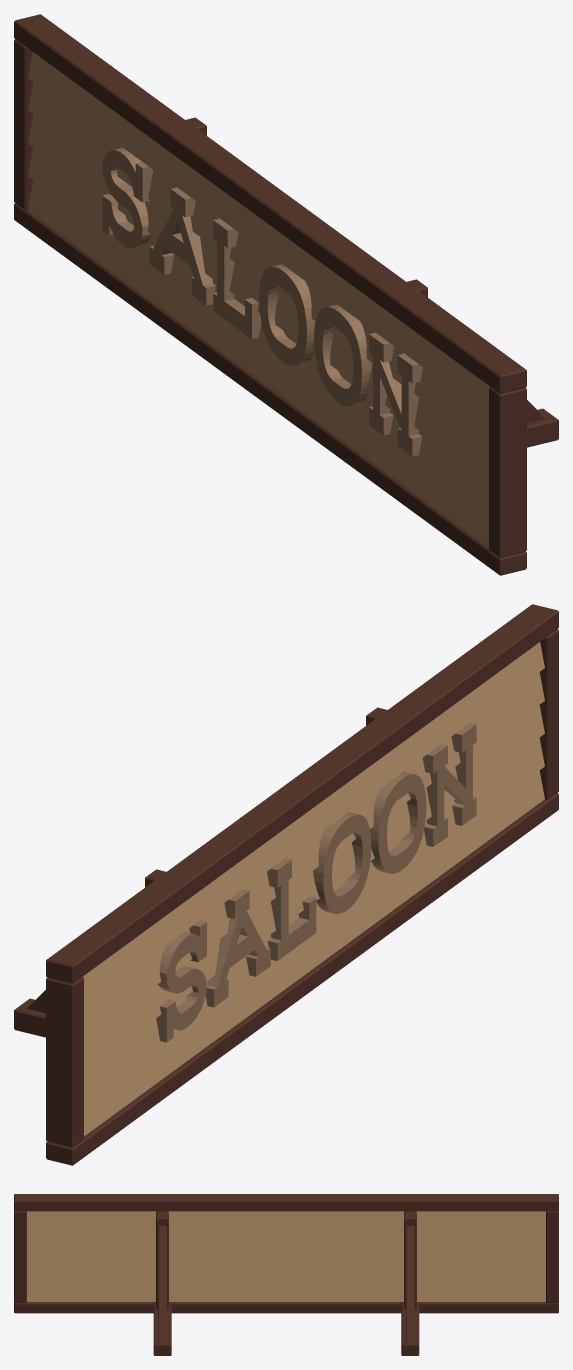
File: saloon-sign-a.glb
3 views of the same model, one above another, from view 1: azimuth 30°, elevation 25°; view 2: azimuth 150°, elevation 25°; view 3: azimuth 270°, elevation 25° (orthographic). The views are drawn at different scales.
Parts seen in each view (by area): view 1: Saloon Sign A (×3); view 2: Saloon Sign A (×3); view 3: Saloon Sign A (×2).
Part boxes in pixels (x1,y1,x2,y2): Saloon Sign A (×3): (14,14,558,575); Saloon Sign A (×3): (14,604,558,1165); Saloon Sign A (×2): (14,1194,558,1355).
Bounding box in the file's own units: 1.46 × 1.5 × 6.6.
